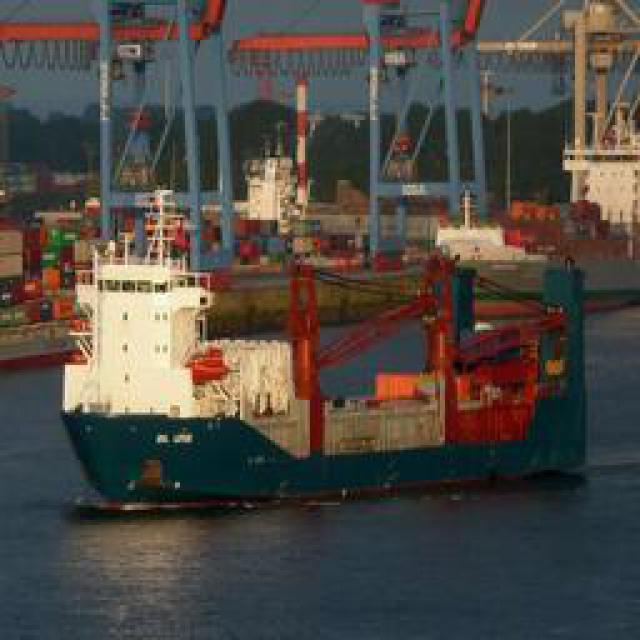Ship: (61, 171, 594, 509)
